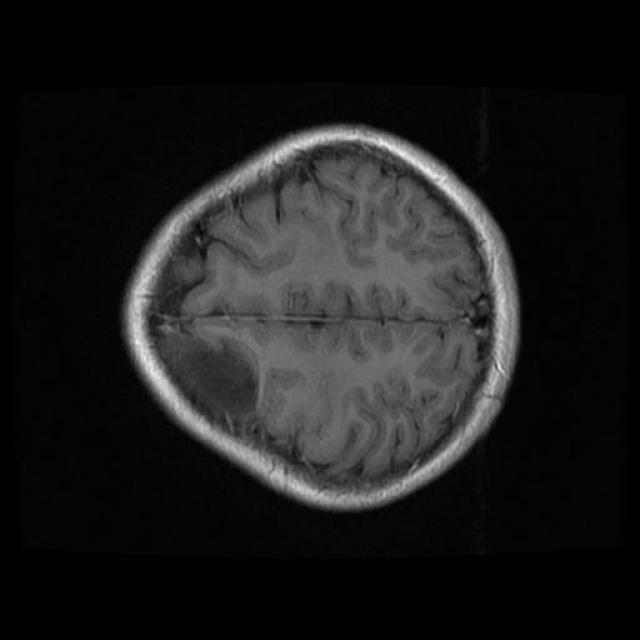Glioma: (157, 327, 256, 420)
